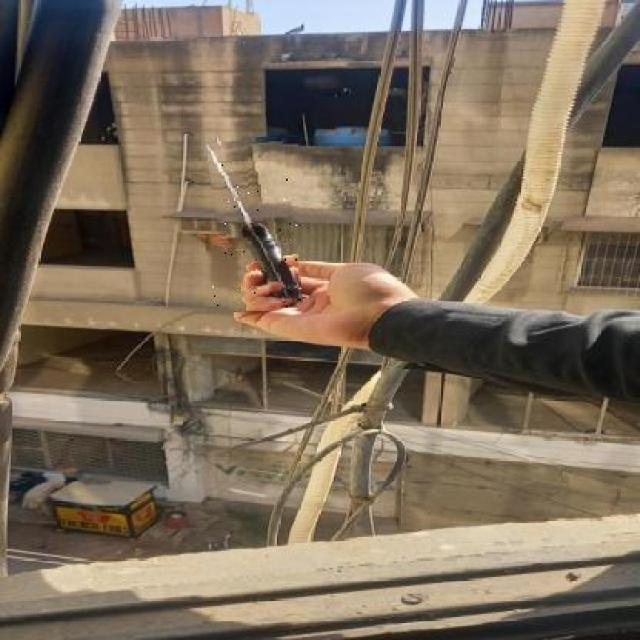knife: (212, 137, 298, 311)
